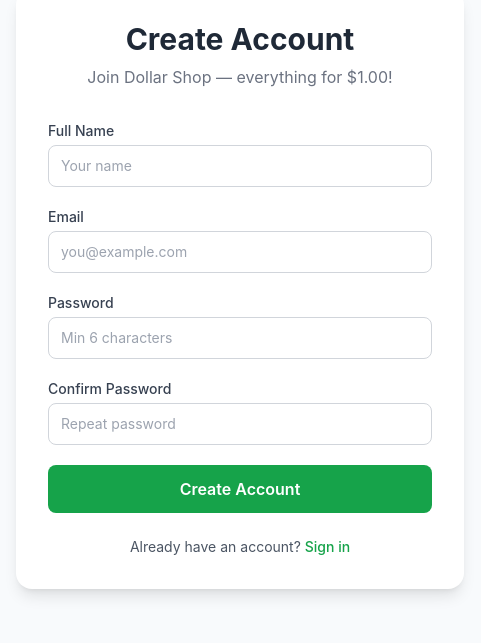
RegisterPage › shows error when password is too short
In the field with placeholder "Your name": (240, 166) [48,145,432,187], type "Alice"
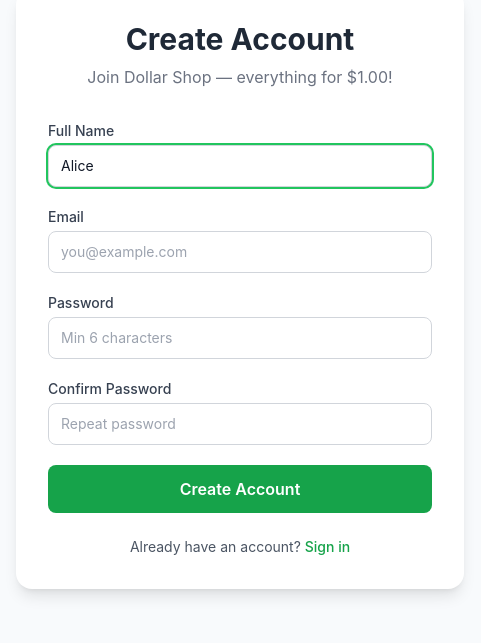
In the field with placeholder "you@example.com": (240, 252) [48,231,432,273], type "alice@test.com"
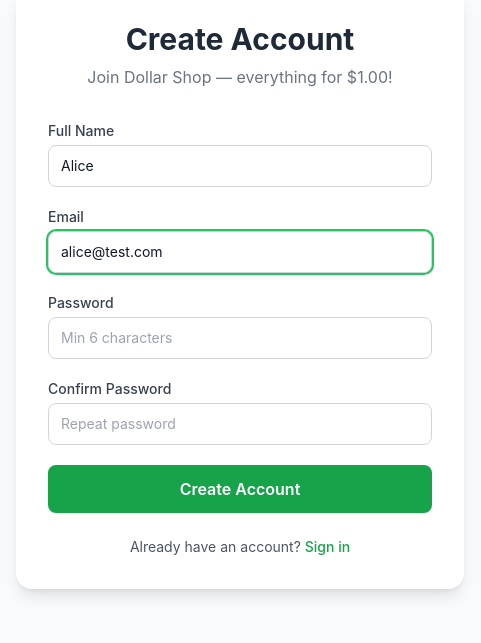
In the password field with placeholder "Min 6 characters": (240, 338) [48,317,432,359], type "abc"
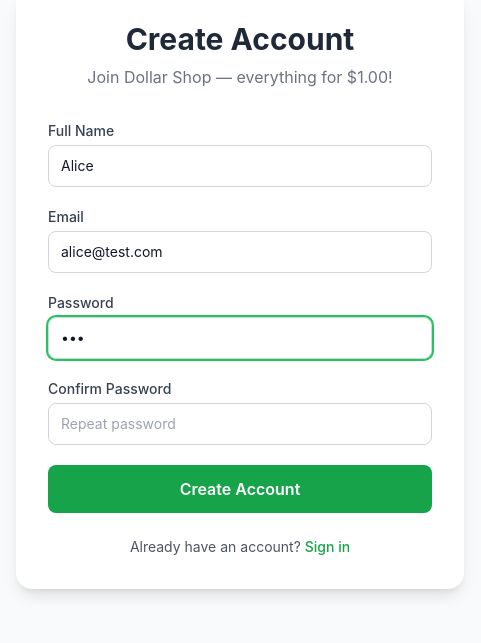
Click the button "Create Account": (240, 489) [48,465,432,513]
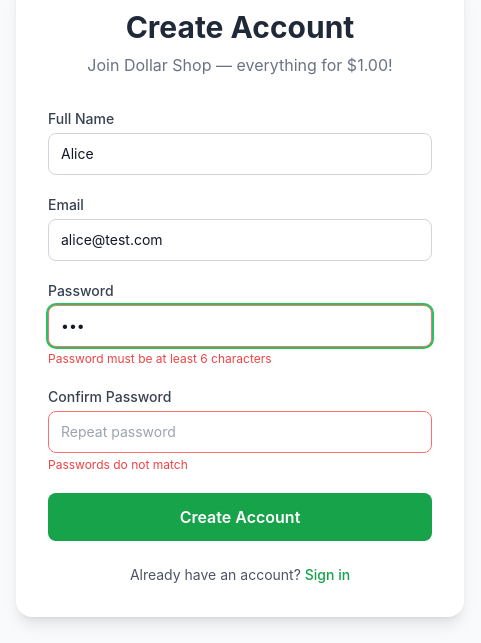
Result: the text "Password must be at least 6 characters" is shown at [48,351,272,366]
